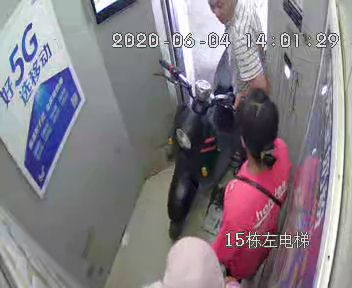Electric-bicycle: (150, 54, 241, 236)
